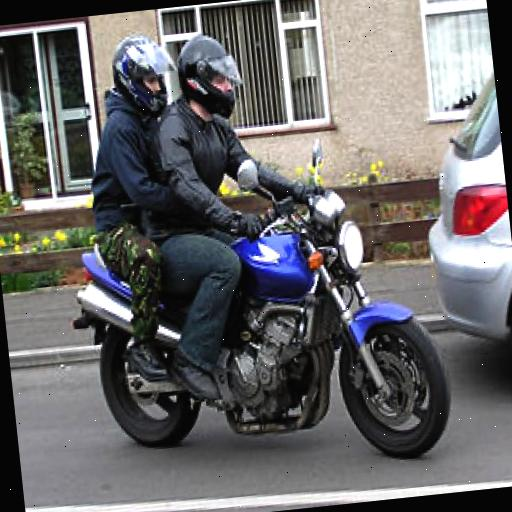helmet: (135, 0, 418, 451)
